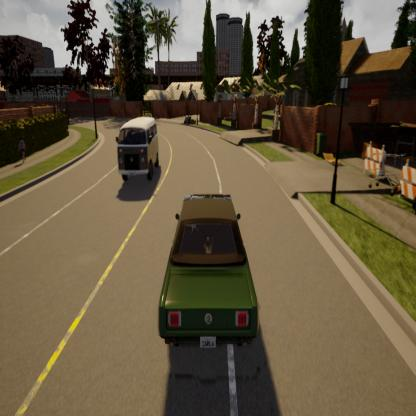Cars: (152, 188, 265, 358), (111, 111, 161, 185)
Pedestrian: (14, 132, 29, 168)
